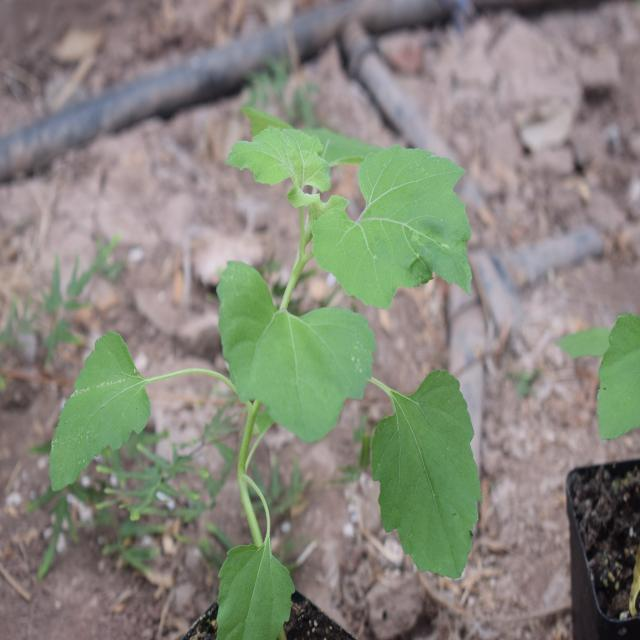cocklebur: (46, 113, 490, 539)
